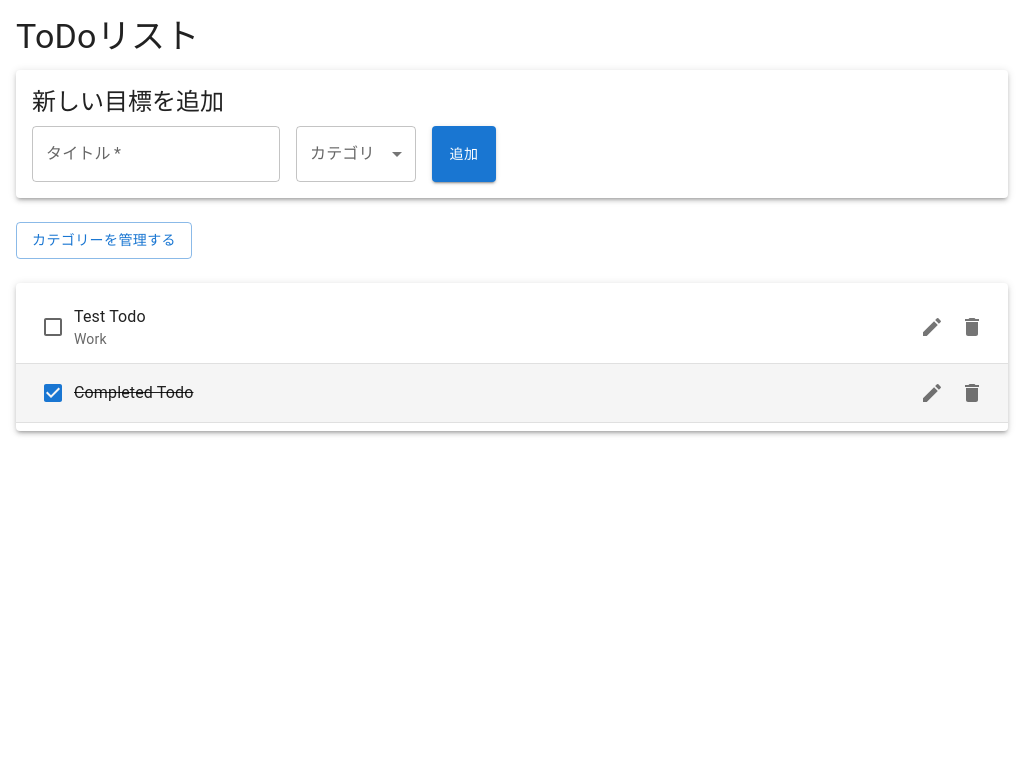
Test: TodoList Component › Success Cases › should open edit dialog when clicking edit button
The image size is (1024, 768).
Expected: the text "Test Todo" is shown, 74,307 -> 146,326
Find and click edit button
Click the button with test id "EditIcon" at (932, 327), box 912,307 -> 952,347
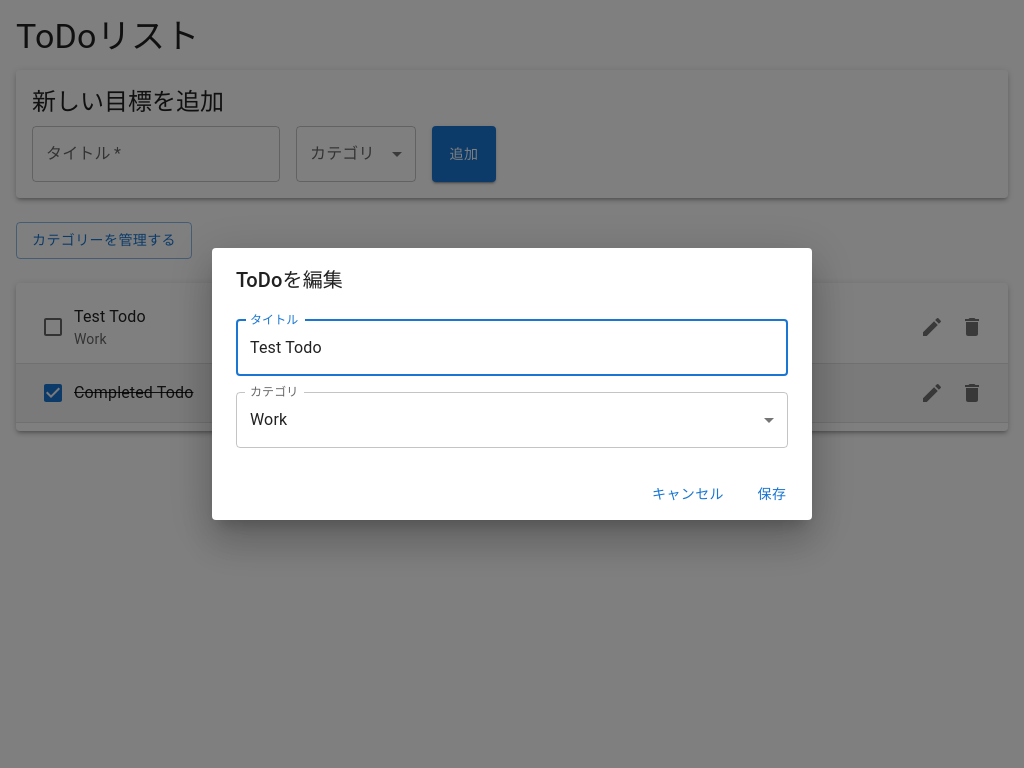
Result: the heading "ToDoを編集" is shown at 236,268 -> 343,292
Result: the field showing "Test Todo" is shown at 236,320 -> 788,376
